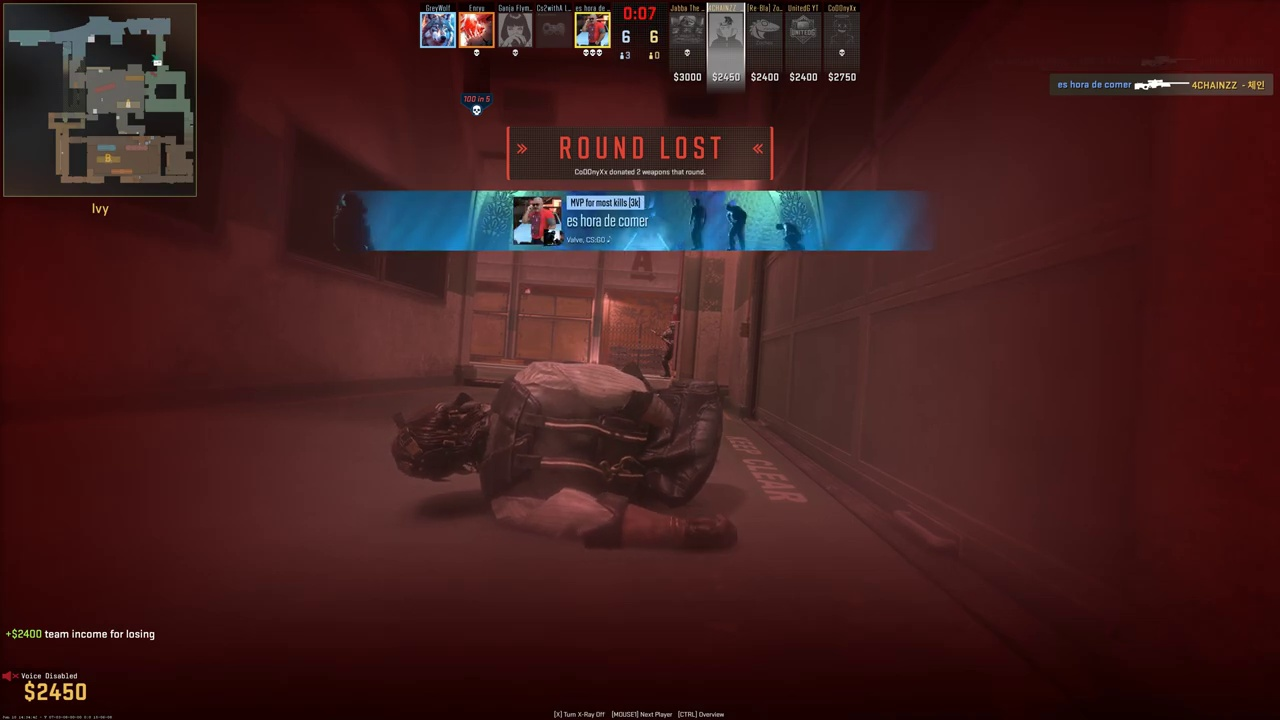CT: (656, 322, 675, 377)
